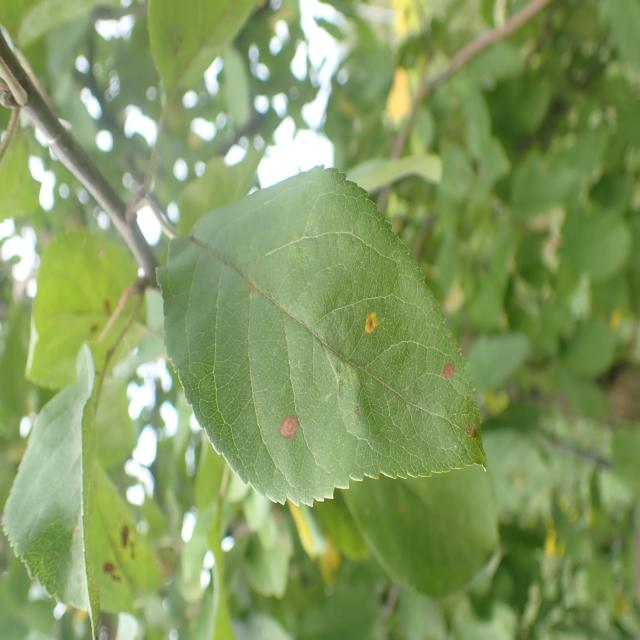frog-eye-leaf-spot: (153, 164, 489, 509)
